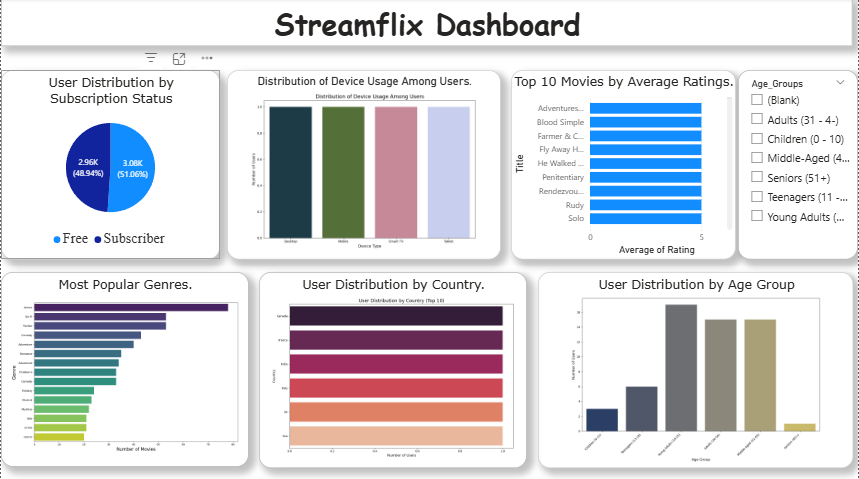

The dashboard page shown, as its layout file describes it:
{"tool":"powerbi","page":{"name":"Page 1","canvas":[1280,720],"ordinal":0},"visuals":[{"type":"pythonVisual","title":"User Distribution by Age Group","fields":{"Values":["streamflix users.Age"]},"box":[801.4,410,471.4,292.9],"z":0},{"type":"pieChart","title":"User Distribution by Subscription Status","fields":{"Y":["CountNonNull(streamflix users.SubscriptionStatus)"],"Category":["streamflix users.SubscriptionStatus"]},"box":[0,107.1,327.1,282.9],"z":1000},{"type":"pythonVisual","title":"Most Popular Genres.","fields":{"Values":["streamflix movies_ratings.Genres"]},"box":[0,410,370,291.4],"z":2000},{"type":"pythonVisual","title":"User Distribution by Country.","fields":{"Values":["streamflix movies_ratings.Country"]},"box":[385.7,410,400,292.9],"z":3000},{"type":"pythonVisual","title":"Distribution of Device Usage Among Users.","fields":{"Values":["streamflix users.Device"]},"box":[337.1,107.1,408.6,282.9],"z":4000},{"type":"clusteredBarChart","title":"Top 10 Movies by Average Ratings.","fields":{"Category":["streamflix movies_ratings.Title"],"Y":["Avg(streamflix movies_ratings.Rating)"]},"box":[761.4,107.1,335.7,282.9],"z":5000},{"type":"slicer","fields":{"Values":["streamflix users.Age_Groups"]},"box":[1101.1,107.3,178.9,283.3],"z":6000},{"type":"textbox","title":"Streamflix Dashboard","box":[0,0,1272.2,72.2],"z":7000}]}

Visuals, with their boxes in screenshot pixels (x1, y1, x2, y2), scaled from the page's 1280x720 canvas onto the 859x479 screenshot:
"User Distribution by Age Group" pythonVisual: crop(538, 273, 854, 468)
"User Distribution by Subscription Status" pieChart: crop(0, 71, 220, 259)
"Most Popular Genres." pythonVisual: crop(0, 273, 248, 467)
"User Distribution by Country." pythonVisual: crop(259, 273, 527, 468)
"Distribution of Device Usage Among Users." pythonVisual: crop(226, 71, 500, 259)
"Top 10 Movies by Average Ratings." clusteredBarChart: crop(511, 71, 736, 259)
slicer - streamflix users.Age_Groups: crop(739, 71, 858, 260)
"Streamflix Dashboard" textbox: crop(0, 0, 854, 48)
